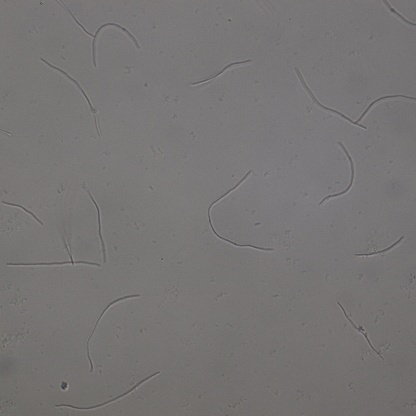Sensitive: (207, 170, 274, 251), (59, 1, 142, 66), (43, 59, 102, 137), (296, 68, 366, 131), (55, 371, 161, 412), (86, 293, 138, 372), (339, 301, 383, 358), (318, 142, 356, 205), (191, 58, 252, 87), (356, 94, 416, 123), (88, 192, 105, 263), (355, 234, 403, 258), (1, 197, 43, 224), (7, 259, 100, 270), (382, 1, 416, 29)
